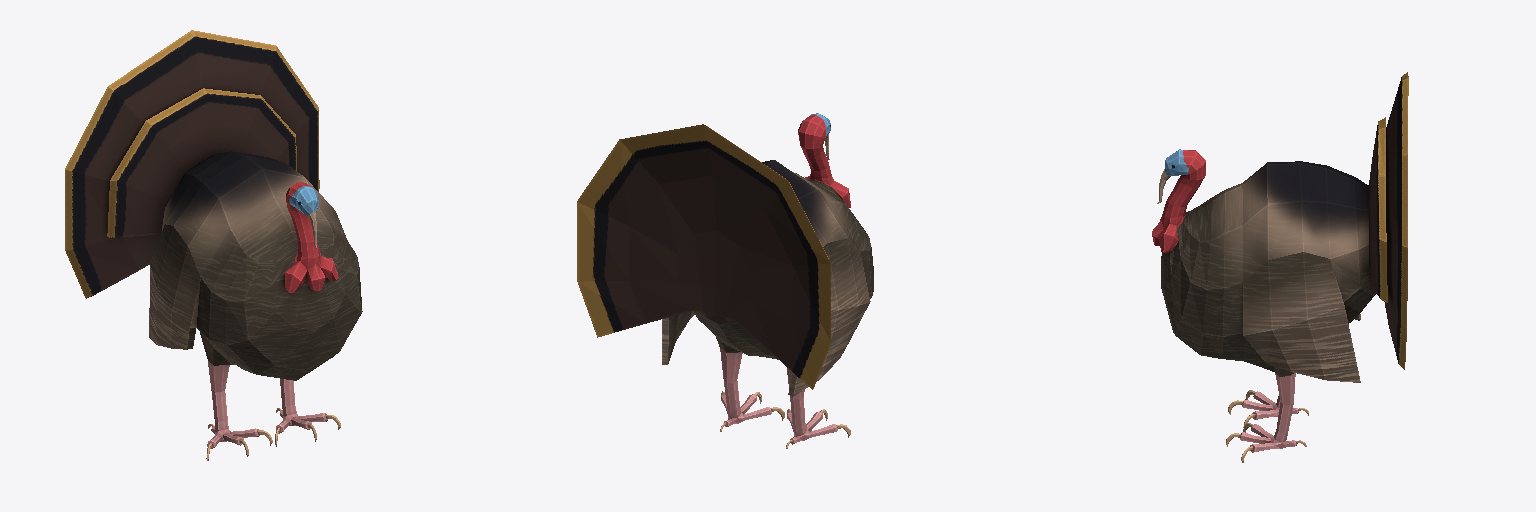
3 views of the same model, side by side, from view 1: azimuth 30°, elevation 25°; view 2: azimuth 150°, elevation 25°; view 3: azimuth 270°, elevation 25° (orthographic).
Visible parts, largest first — view 1: Turkey_mesh; view 2: Turkey_mesh; view 3: Turkey_mesh.
Part boxes in pixels (x1,y1,x2,y2): Turkey_mesh: (65,30,362,460); Turkey_mesh: (577,113,873,448); Turkey_mesh: (1152,72,1408,462).
Bounding box in the file's own units: 9.47 × 12.73 × 8.29.
Materials: 1 (1 with a texture image).